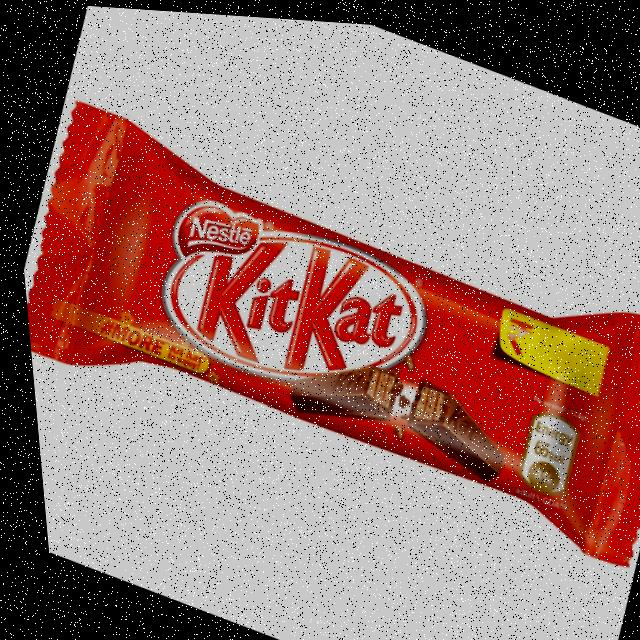kitkat: (7, 97, 640, 576)
